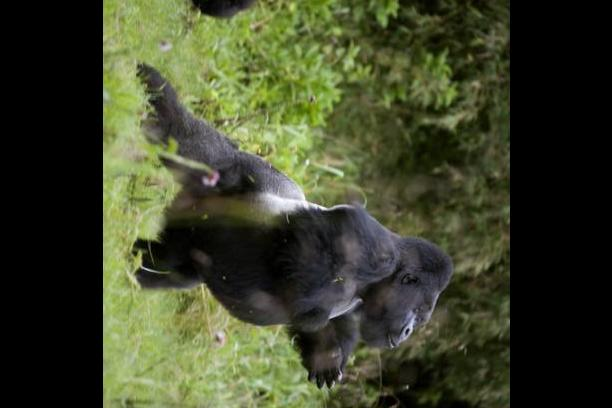goriile_montagne: (116, 167, 464, 380), (193, 0, 310, 22)
